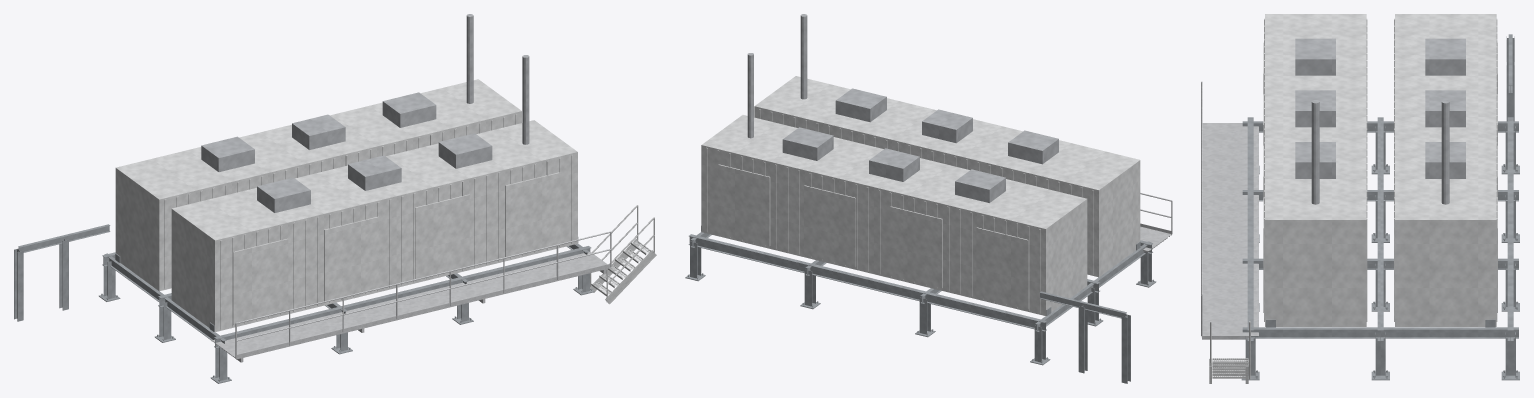
The model's file is fuel-cell-enclosures.glb.
3 views of the same model, side by side, from view 1: azimuth 30°, elevation 25°; view 2: azimuth 150°, elevation 25°; view 3: azimuth 270°, elevation 25° (orthographic). The views are drawn at different scales.
Parts seen in each view (by area): view 1: FuelCellEnclosures, VentHoods&Stacks, ServiceWalkway, SupportFrame, H2InletRack, Stair; view 2: FuelCellEnclosures, VentHoods&Stacks, SupportFrame, H2InletRack, ServiceWalkway; view 3: FuelCellEnclosures, SupportFrame, ServiceWalkway, VentHoods&Stacks, Stair, H2InletRack.
Boxes of the visible parts, left/top/right/bottom form: FuelCellEnclosures: left=115, top=79, right=577, bottom=331; VentHoods&Stacks: left=201, top=14, right=529, bottom=212; ServiceWalkway: left=211, top=231, right=611, bottom=362; SupportFrame: left=99, top=243, right=594, bottom=383; H2InletRack: left=14, top=224, right=110, bottom=321; Stair: left=590, top=205, right=656, bottom=304; FuelCellEnclosures: left=701, top=76, right=1140, bottom=315; VentHoods&Stacks: left=747, top=14, right=1058, bottom=202; SupportFrame: left=685, top=232, right=1156, bottom=365; H2InletRack: left=1039, top=291, right=1130, bottom=383; ServiceWalkway: left=1140, top=193, right=1172, bottom=252; FuelCellEnclosures: left=1263, top=14, right=1497, bottom=326; SupportFrame: left=1241, top=117, right=1519, bottom=380; ServiceWalkway: left=1201, top=81, right=1258, bottom=339; VentHoods&Stacks: left=1295, top=38, right=1465, bottom=204; Stair: left=1209, top=321, right=1250, bottom=383; H2InletRack: left=1506, top=34, right=1514, bottom=121.
Bounding box in the file's own units: 16.92 × 7.08 × 7.85.
5 materials, 5 textured.
